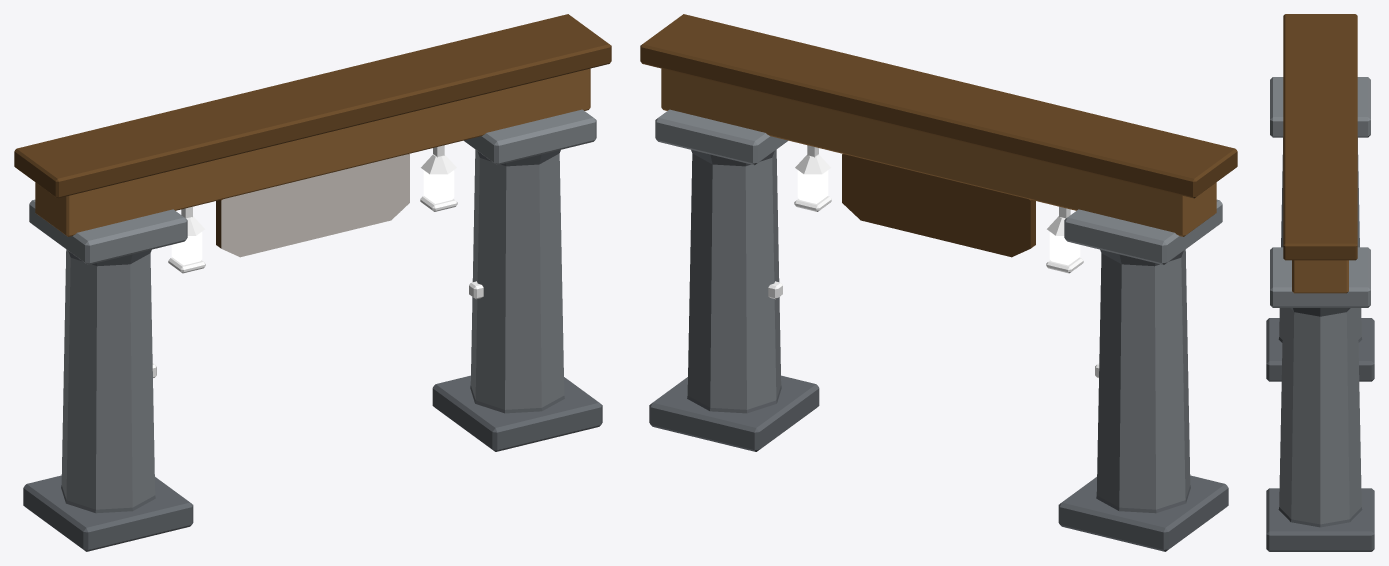
File: tier_gate.glb
3 renders of one model, left to right at view 1: azimuth 30°, elevation 25°; view 2: azimuth 150°, elevation 25°; view 3: azimuth 270°, elevation 25°, orthographic. The views are drawn at different scales.
Visible parts, largest first — view 1: TierGate; view 2: TierGate; view 3: TierGate.
Boxes of the visible parts, <box> form: TierGate: <box>14,14,611,551</box>; TierGate: <box>640,14,1237,551</box>; TierGate: <box>1266,14,1374,551</box>.
Size of the model in its own units: 5.3 by 3.38 by 1.05.
